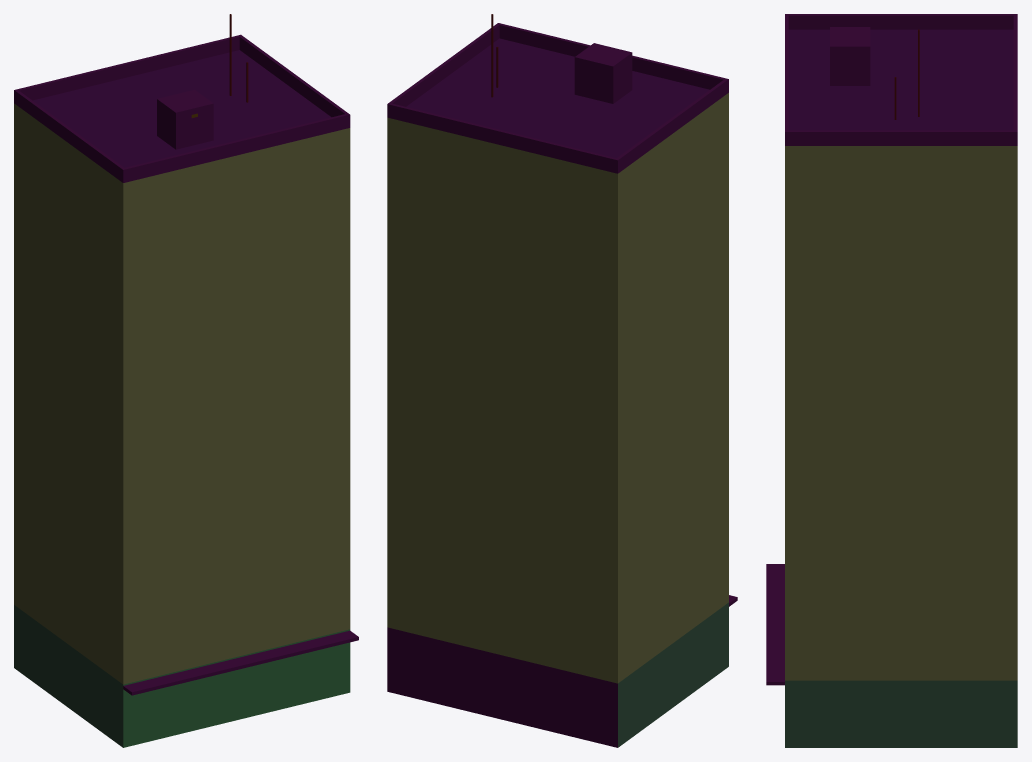
Rendered from commercial_c.lod1.glb.
3 views of the same model, side by side, from view 1: azimuth 30°, elevation 25°; view 2: azimuth 150°, elevation 25°; view 3: azimuth 270°, elevation 25° (orthographic). The views are drawn at different scales.
Visible parts, largest first — view 1: commercial_c.lod1; view 2: commercial_c.lod1; view 3: commercial_c.lod1.
Part boxes in pixels (bbox=[...]): commercial_c.lod1: bbox=[14, 14, 358, 747]; commercial_c.lod1: bbox=[387, 14, 737, 747]; commercial_c.lod1: bbox=[766, 14, 1017, 747].
Size of the model in its own units: 18 by 48.96 by 16.2.
